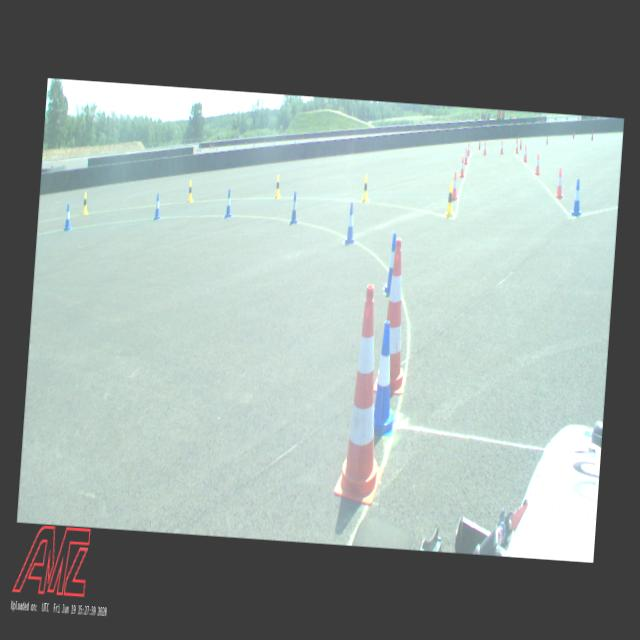blue_cone: (371, 321, 402, 438), (382, 233, 400, 296), (570, 178, 583, 217), (344, 202, 356, 244), (290, 192, 300, 224), (62, 202, 72, 230), (152, 192, 162, 220), (224, 189, 232, 218)
large_orange_cone: (332, 283, 396, 507), (372, 236, 416, 397)
orange_cone: (554, 167, 565, 199), (458, 154, 466, 178), (452, 172, 458, 200), (534, 152, 540, 175), (522, 144, 528, 162), (499, 139, 504, 155), (514, 138, 519, 154), (463, 148, 467, 164), (483, 141, 486, 155), (466, 144, 470, 154)
unknown_cone: (519, 136, 522, 150), (545, 134, 548, 145), (590, 131, 593, 141), (478, 138, 480, 150), (572, 130, 574, 138)
yellow_cone: (444, 184, 454, 218), (361, 175, 371, 202), (80, 192, 88, 215), (273, 174, 280, 198), (186, 178, 193, 202)
